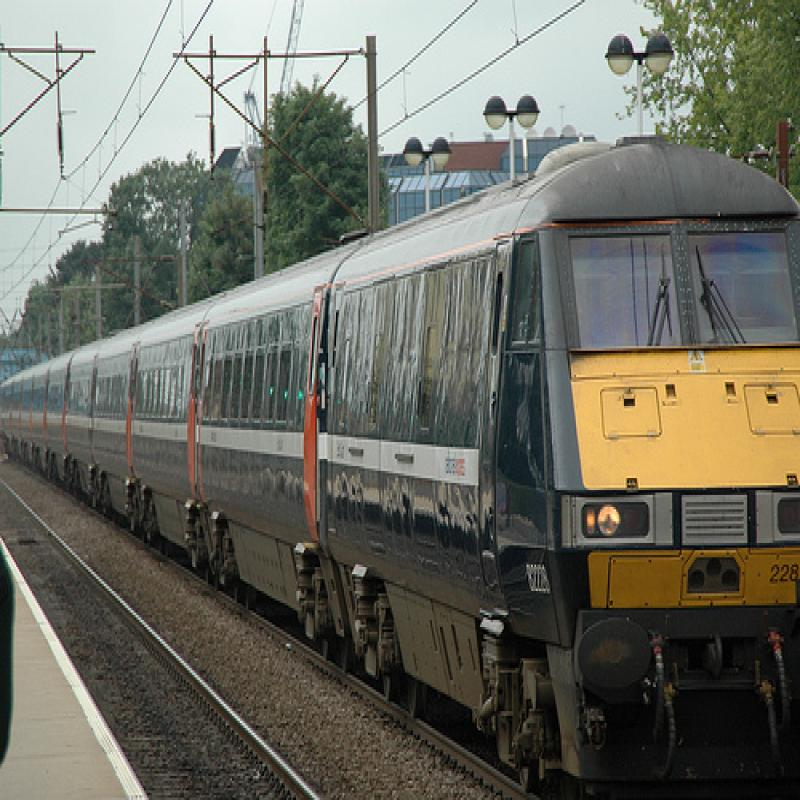train: (2, 140, 800, 779)
